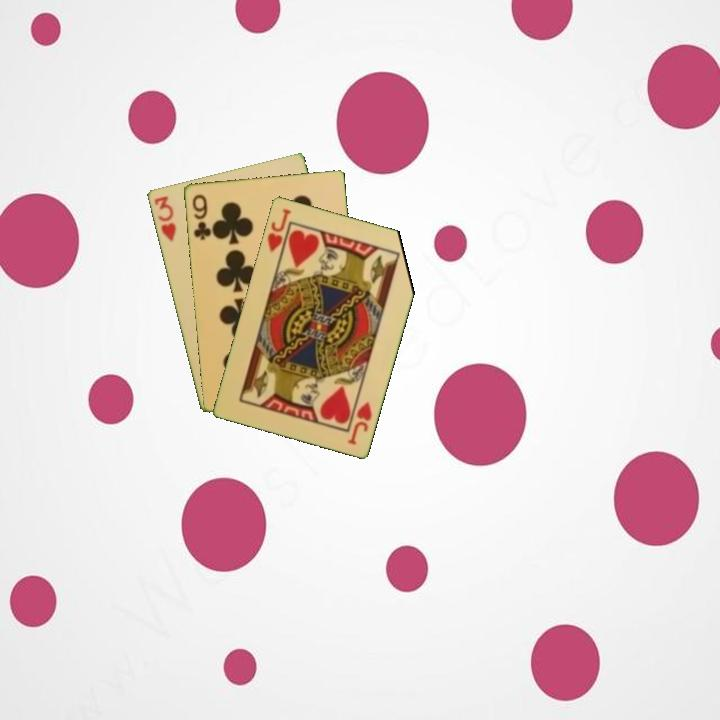3h: (150, 192, 179, 245)
9c: (188, 191, 213, 242)
Jh: (263, 205, 294, 255), (344, 398, 375, 447)
